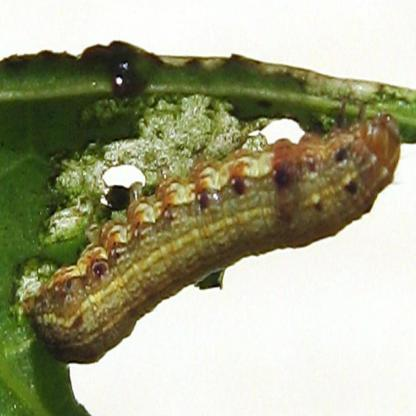armyworm: (4, 79, 416, 394)
